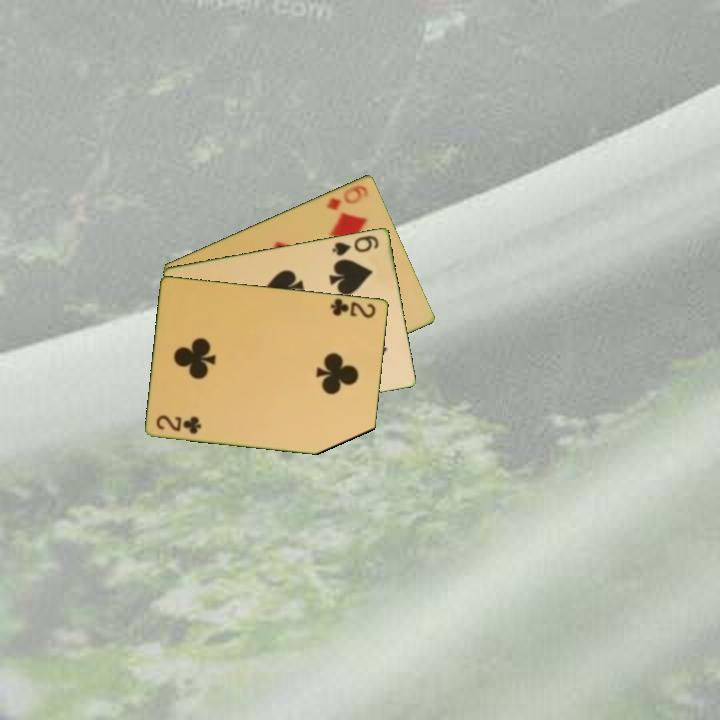2c: (327, 295, 379, 321), (153, 411, 204, 436)
6d: (323, 181, 371, 213)
6s: (329, 231, 382, 258)
